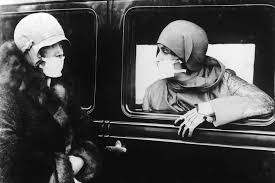mask: (38, 56, 71, 80)
